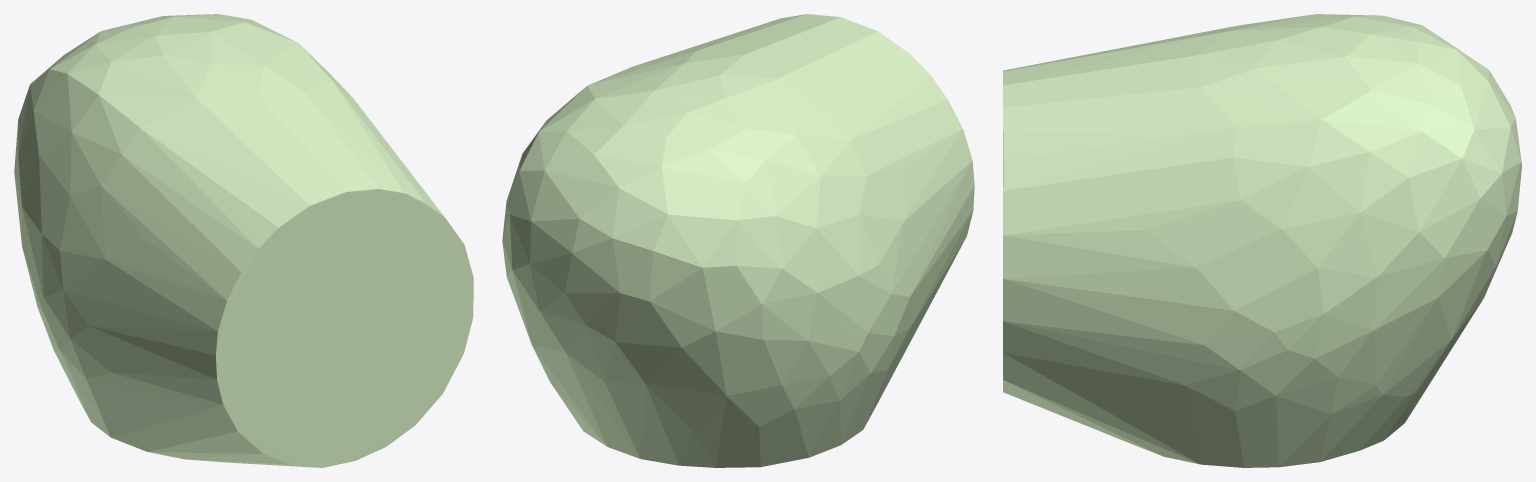
File: kuka_link7_resp_coll_1.dae
The picture shows the model from 3 angles, left to right: view 1: azimuth 30°, elevation 25°; view 2: azimuth 150°, elevation 25°; view 3: azimuth 270°, elevation 25°; orthographic projection. The views are drawn at different scales.
Visible parts, largest first — view 1: Node_0000015C5C916960; view 2: Node_0000015C5C916960; view 3: Node_0000015C5C916960.
Part boxes in pixels (left/top/right/bottom): Node_0000015C5C916960: left=14, top=14, right=473, bottom=467; Node_0000015C5C916960: left=502, top=14, right=974, bottom=467; Node_0000015C5C916960: left=1003, top=14, right=1521, bottom=467.
Bounding box in the file's own units: 0.1324 × 0.1267 × 0.1667.
